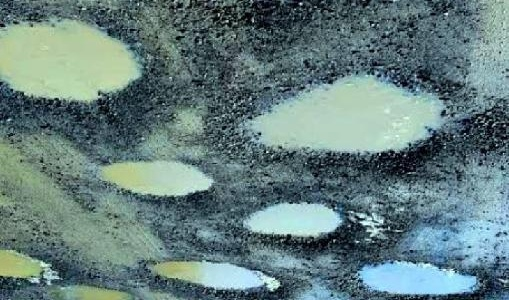pothole: (226, 62, 460, 176), (0, 14, 156, 117), (333, 258, 497, 300), (137, 258, 296, 299), (89, 156, 216, 207), (235, 197, 355, 250), (0, 246, 58, 286), (54, 284, 137, 300)
